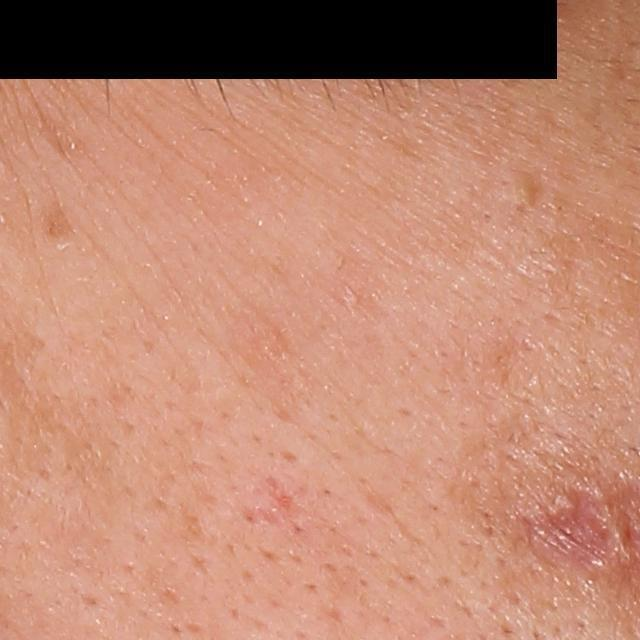comedo: (501, 175, 536, 207)
melasma: (34, 200, 82, 244)
